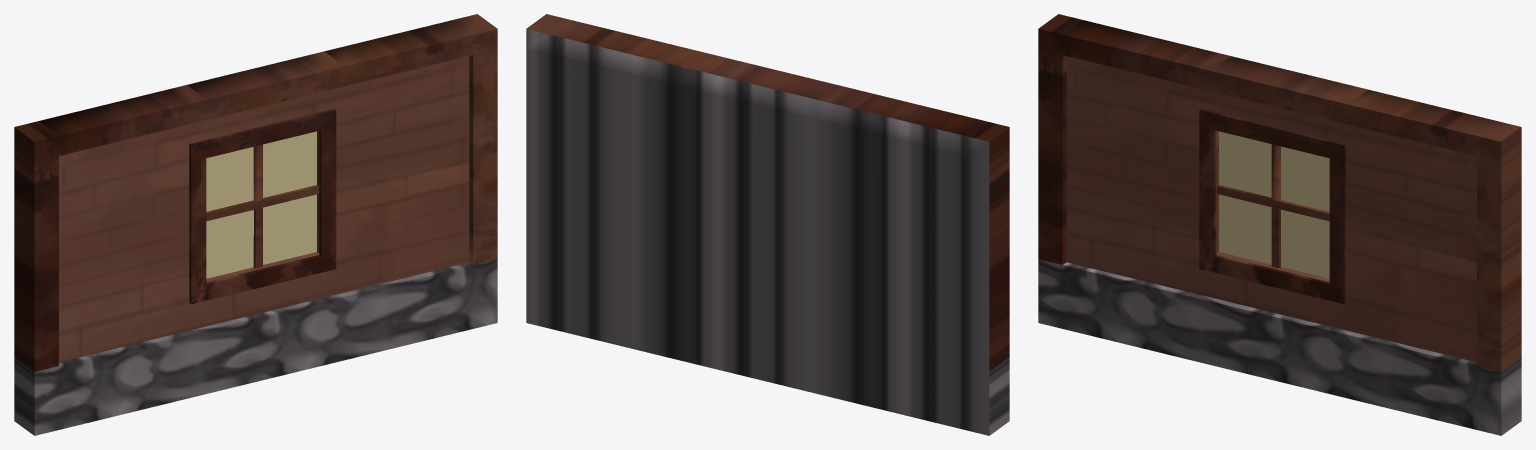
The model's file is House_Wall_Long.fbx.
The picture shows the model from 3 angles, left to right: view 1: azimuth 30°, elevation 25°; view 2: azimuth 150°, elevation 25°; view 3: azimuth 330°, elevation 25°; orthographic projection.
Visible parts, largest first — view 1: House_Wall_ Long; view 2: House_Wall_ Long; view 3: House_Wall_ Long.
Part boxes in pixels (x1=…): House_Wall_ Long: x1=14, y1=14, x2=497, y2=435; House_Wall_ Long: x1=526, y1=14, x2=1009, y2=435; House_Wall_ Long: x1=1038, y1=14, x2=1521, y2=435.
Bounding box in the file's own units: 1303 × 790 × 98.97.
1 material, 1 textured.
